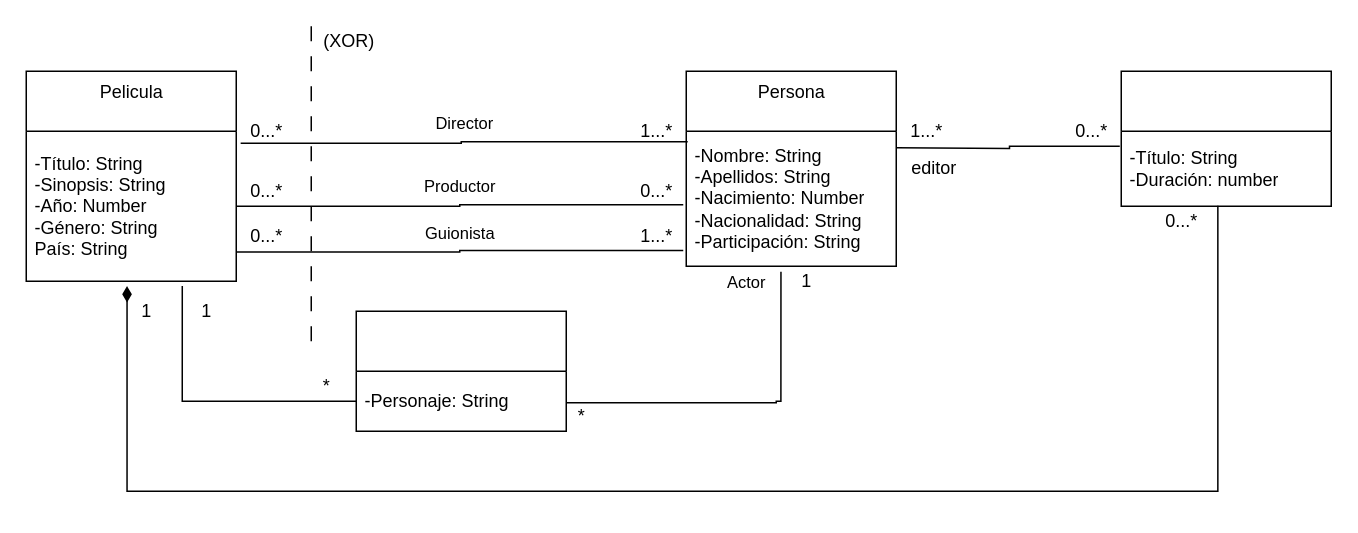
Image size: 1358x533. Some labels were removed from this diagram. The box of each missing label's shape, as (x1, y1, x2, y2) in pixels:
Rol: (355, 310, 566, 431)
Trailer: (1120, 70, 1331, 206)
